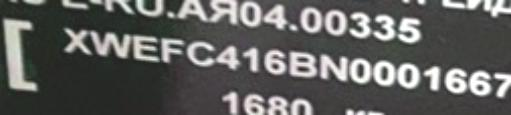letter: (58, 24, 92, 58), (93, 30, 131, 59), (286, 48, 318, 79), (186, 36, 216, 69), (131, 30, 159, 61), (240, 42, 263, 75), (320, 52, 348, 79), (444, 63, 468, 93), (371, 58, 397, 85), (162, 34, 186, 63), (399, 59, 421, 89), (349, 54, 369, 85), (218, 42, 240, 69), (264, 48, 286, 75), (422, 61, 442, 89), (490, 70, 508, 100), (470, 69, 490, 95)
